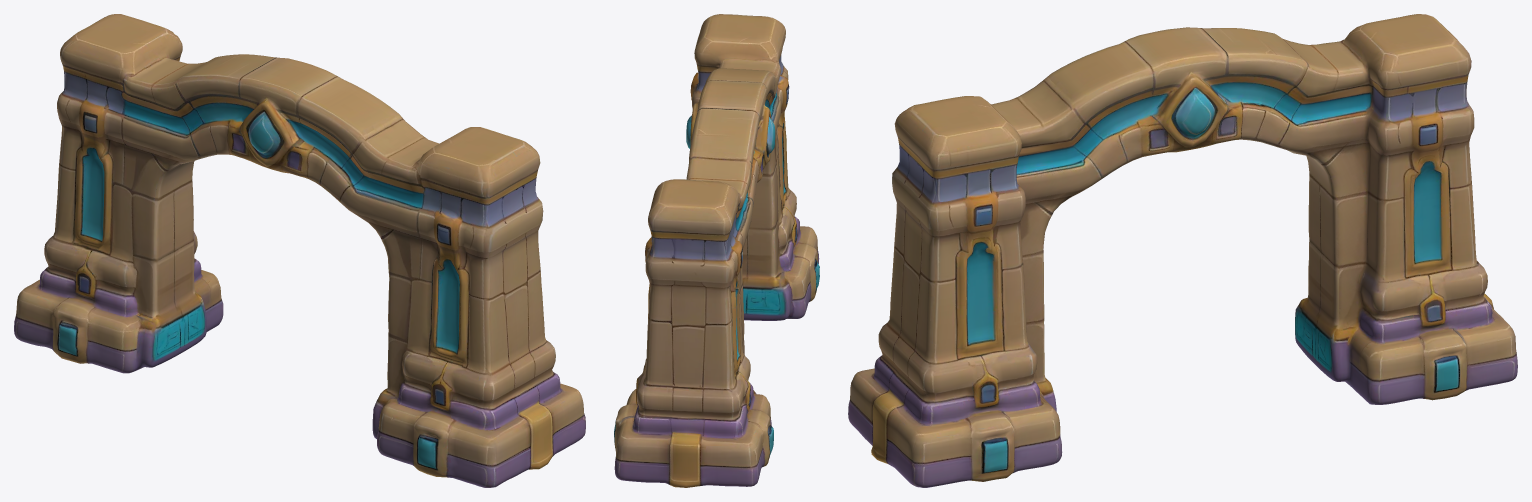
File: 05-garden-main-gate.glb
The picture shows the model from 3 angles, left to right: view 1: azimuth 30°, elevation 25°; view 2: azimuth 150°, elevation 25°; view 3: azimuth 270°, elevation 25°; orthographic projection. The views are drawn at different scales.
Visible parts, largest first — view 1: tripo_node_4f99d8b9; view 2: tripo_node_4f99d8b9; view 3: tripo_node_4f99d8b9.
Part boxes in pixels (<box>): tripo_node_4f99d8b9: <box>14,14,585,487</box>; tripo_node_4f99d8b9: <box>614,14,819,487</box>; tripo_node_4f99d8b9: <box>848,14,1517,487</box>.
Bounding box in the file's own units: 1.29 × 1.2 × 2.06.
Materials: 1 (1 with a texture image).
